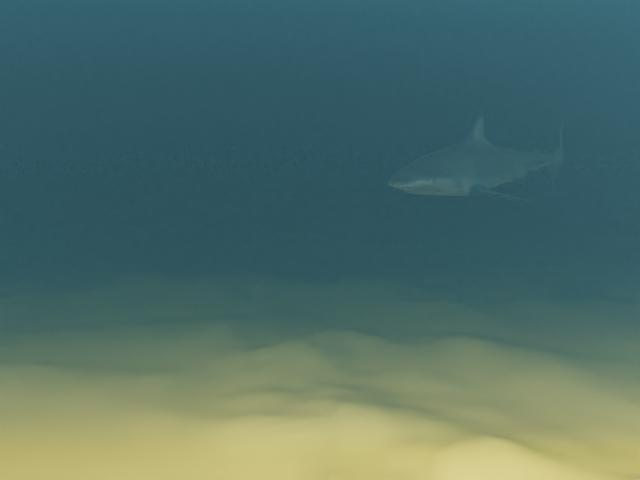Carribean Shark.001: (387, 110, 566, 204)
